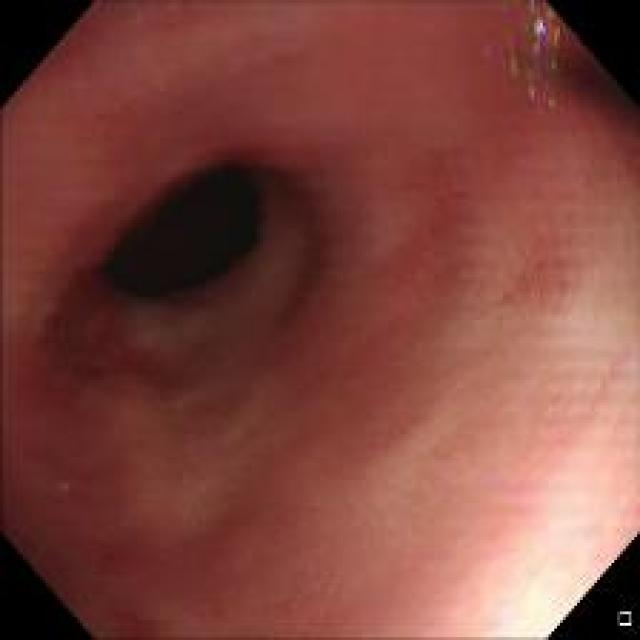color misalignment: (480, 0, 565, 109)
contrast: (88, 145, 258, 306)
